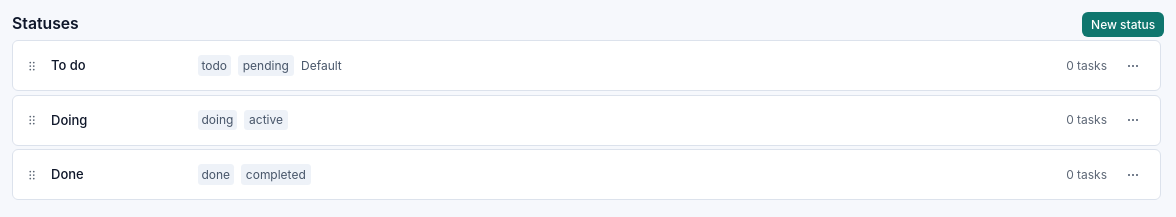
EnumCollectionPanel — edit-model (SET-28, SET-51) › value edits live behind an Edit dialog, not inline on the row
The width and height of the screenshot is (1176, 217).
Click the button named "Actions for status \"To do\"". click: [1133, 66]
box: x1=1114 y1=46 x2=1152 y2=85
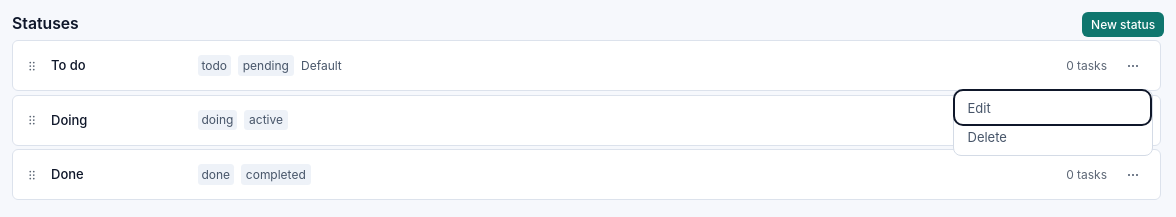
Result: the menu item with test id "statuses-edit-todo" is shown at x1=957 y1=93 x2=1148 y2=122
